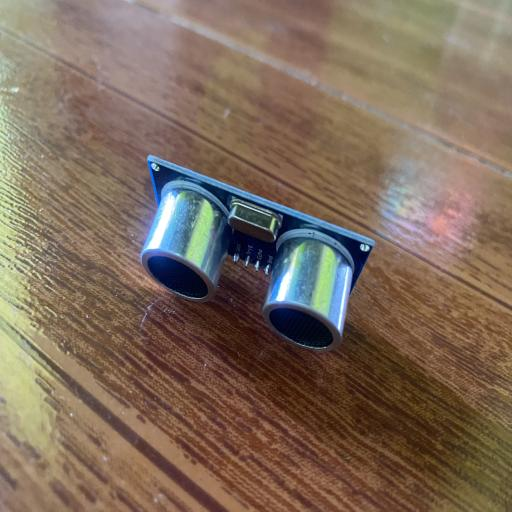Ultrasonic Sensor: (140, 154, 376, 352)
